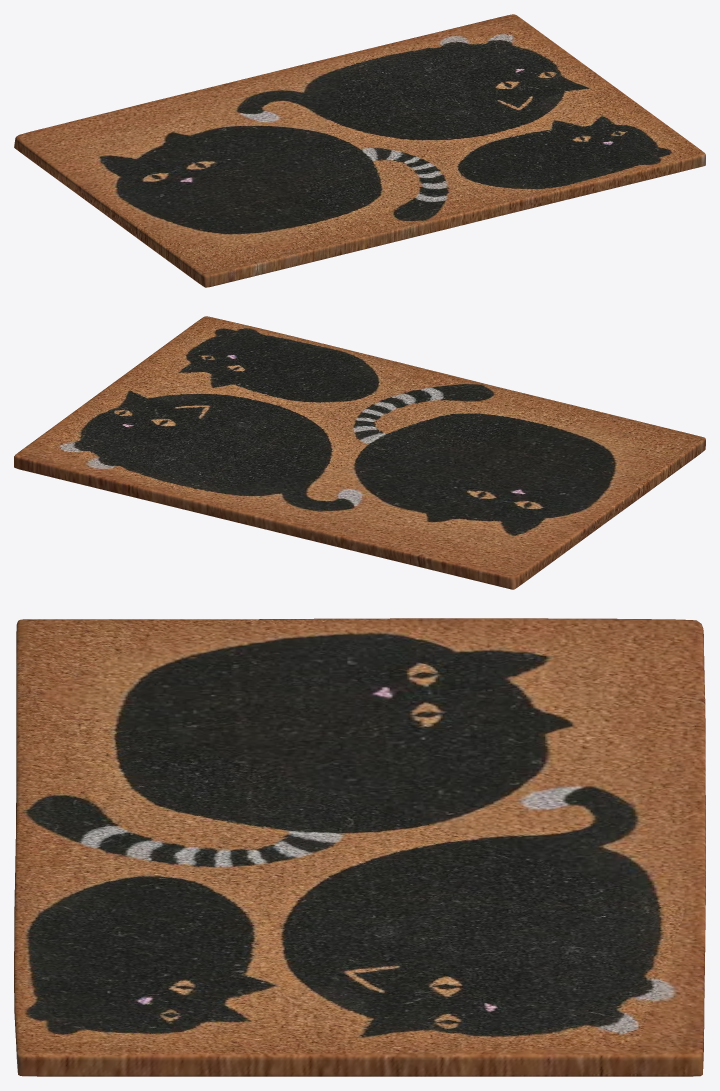
File: 01 - VÄGTYP - 門墊，貓 黑色自然色，40x60 公分 IKEA 線上購物.glb
The picture shows the model from 3 angles, top to bottom: view 1: azimuth 30°, elevation 25°; view 2: azimuth 150°, elevation 25°; view 3: azimuth 270°, elevation 25°; orthographic projection. The views are drawn at different scales.
Visible parts, largest first — view 1: Mesh_0; view 2: Mesh_0; view 3: Mesh_0.
Part boxes in pixels (x1=…): Mesh_0: x1=14, y1=14, x2=705, y2=287; Mesh_0: x1=14, y1=316, x2=705, y2=589; Mesh_0: x1=14, y1=618, x2=705, y2=1076.
Size of the model in its own units: 0.6009 by 0.0141 by 0.4009.
Materials: 1 (1 with a texture image).
